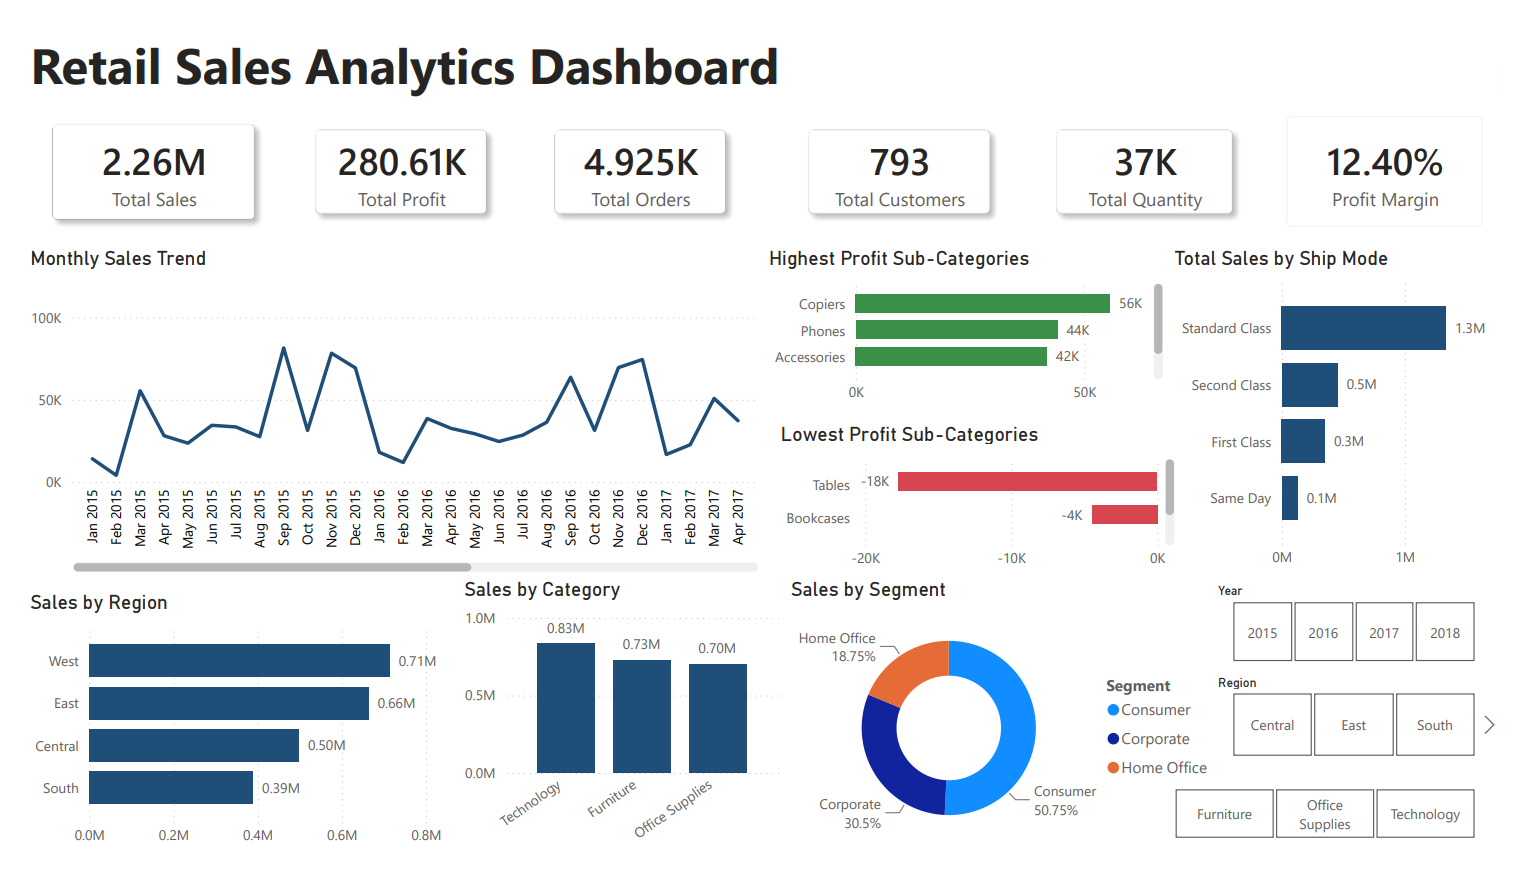

What the dashboard file says about the page in this screenshot:
{"tool":"powerbi","page":{"name":"Page 1","canvas":[1280,720],"ordinal":0},"visuals":[{"type":"cardVisual","fields":{"Data":["Query1.Total Sales"]},"box":[0,61.6,223.3,130.2],"z":0},{"type":"cardVisual","fields":{"Data":["Query1.Total Orders"]},"box":[430.2,61.6,207,130.2],"z":1000},{"type":"cardVisual","fields":{"Data":["Query1.Total Customers"]},"box":[650,61.6,215.1,130.2],"z":2000},{"type":"cardVisual","fields":{"Data":["Query1.Total Quantity"]},"box":[865.1,61.6,210.5,130.2],"z":3000},{"type":"cardVisual","fields":{"Data":["Query1.Profit Margin"]},"box":[1075.6,61.6,204.7,130.2],"z":4000},{"type":"cardVisual","fields":{"Data":["Query1.Test Profit"]},"box":[223.3,61.6,207,130.2],"z":5000},{"type":"lineChart","title":"Monthly Sales Trend","fields":{"Y":["Query1.Total Sales"],"Category":["Query1.Month Year"]},"box":[0,191.9,639.5,287.2],"z":6000},{"type":"barChart","title":"Sales by Region","fields":{"Y":["Query1.Total Sales"],"Category":["Query1.Region"]},"box":[0,489.5,375.6,230.2],"z":7000},{"type":"clusteredColumnChart","title":"Sales by Category","fields":{"Y":["Query1.Total Sales"],"Category":["Query1.Category"]},"box":[375.6,479.1,283.7,240.7],"z":8000},{"type":"clusteredBarChart","title":"Highest Profit Sub-Categories","fields":{"Y":["Query1.Total Profit"],"Category":["Query1.Sub-Category"]},"box":[639.5,191.9,351.2,144.2],"z":9000},{"type":"donutChart","title":"Sales by Segment","fields":{"Category":["Query1.Segment"],"Y":["Query1.Total Sales"]},"box":[658.8,478.8,380,241.2],"z":10000},{"type":"clusteredBarChart","fields":{"Y":["Query1.Total Sales"],"Category":["Query1.Ship Mode"]},"box":[990.7,191.9,289.5,287.2],"z":11000},{"type":"slicer","fields":{"Values":["Query1.Order Date.Variation.Date Hierarchy.Year"]},"box":[1021.2,478.8,258.8,78.8],"z":12000},{"type":"slicer","fields":{"Values":["Query1.Region"]},"box":[1021.2,557.5,258.8,82.5],"z":13000},{"type":"slicer","fields":{"Values":["Query1.Category"]},"box":[971.2,655,308.8,53.8],"z":14000},{"type":"clusteredBarChart","title":"Lowest Profit Sub-Categories","fields":{"Y":["Query1.Total Profit"],"Category":["Query1.Sub-Category"]},"box":[650,344.2,351.2,136],"z":15000},{"type":"textbox","box":[0,0,1280.2,72.1],"z":15001}]}

Visuals, with their boxes in screenshot pixels (x1, y1, x2, y2), scaled from the page's 1280x720 canvas onto the 1525x876 screenshot:
cardVisual - Query1.Total Sales: {"x1": 0, "y1": 75, "x2": 266, "y2": 233}
cardVisual - Query1.Total Orders: {"x1": 513, "y1": 75, "x2": 759, "y2": 233}
cardVisual - Query1.Total Customers: {"x1": 774, "y1": 75, "x2": 1031, "y2": 233}
cardVisual - Query1.Total Quantity: {"x1": 1031, "y1": 75, "x2": 1281, "y2": 233}
cardVisual - Query1.Profit Margin: {"x1": 1281, "y1": 75, "x2": 1524, "y2": 233}
cardVisual - Query1.Test Profit: {"x1": 266, "y1": 75, "x2": 513, "y2": 233}
"Monthly Sales Trend" lineChart: {"x1": 0, "y1": 233, "x2": 762, "y2": 583}
"Sales by Region" barChart: {"x1": 0, "y1": 596, "x2": 447, "y2": 875}
"Sales by Category" clusteredColumnChart: {"x1": 447, "y1": 583, "x2": 785, "y2": 875}
"Highest Profit Sub-Categories" clusteredBarChart: {"x1": 762, "y1": 233, "x2": 1180, "y2": 409}
"Sales by Segment" donutChart: {"x1": 785, "y1": 583, "x2": 1238, "y2": 875}
clusteredBarChart - Query1.Total Sales x Query1.Ship Mode: {"x1": 1180, "y1": 233, "x2": 1524, "y2": 583}
slicer - Query1.Order Date.Variation.Date Hierarchy.Year: {"x1": 1217, "y1": 583, "x2": 1524, "y2": 678}
slicer - Query1.Region: {"x1": 1217, "y1": 678, "x2": 1524, "y2": 779}
slicer - Query1.Category: {"x1": 1157, "y1": 797, "x2": 1524, "y2": 862}
"Lowest Profit Sub-Categories" clusteredBarChart: {"x1": 774, "y1": 419, "x2": 1193, "y2": 584}
textbox: {"x1": 0, "y1": 0, "x2": 1524, "y2": 88}
